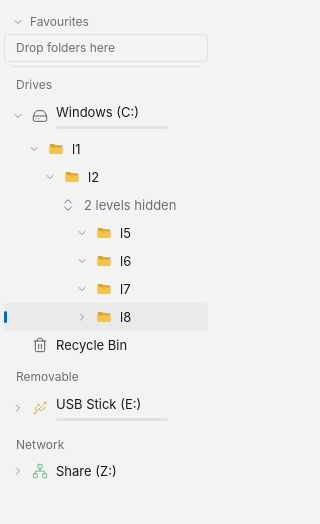
FolderTree › folds the middle of a very deep path into one row that reveals it
Check: the text "l3" is not shown
Click the button "2 levels hidden".
click(130, 205)  # box x1=60 y1=191 x2=200 y2=219
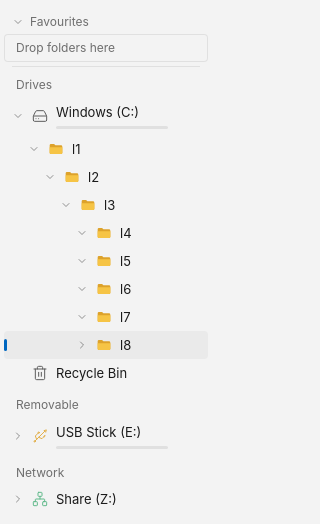
Check: the text "l3" is shown, box x1=104 y1=196 x2=115 y2=214
Check: the button "levels hidden" is gone
